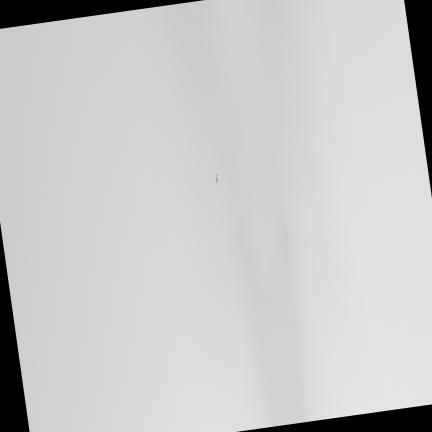Shahed: (213, 173, 218, 187)
